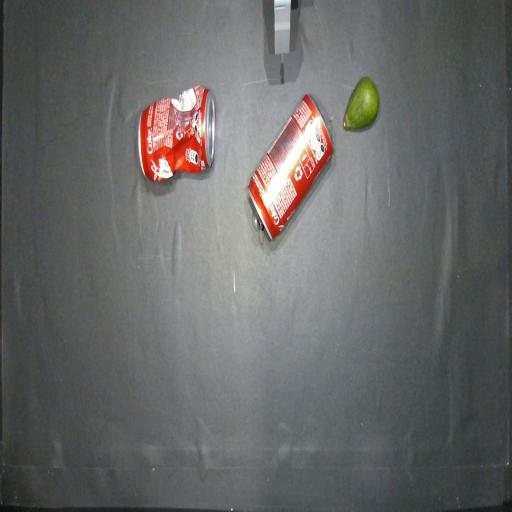higo: (343, 77, 379, 129)
lata: (248, 95, 333, 239)
lata_defectuoso: (138, 86, 215, 182)
